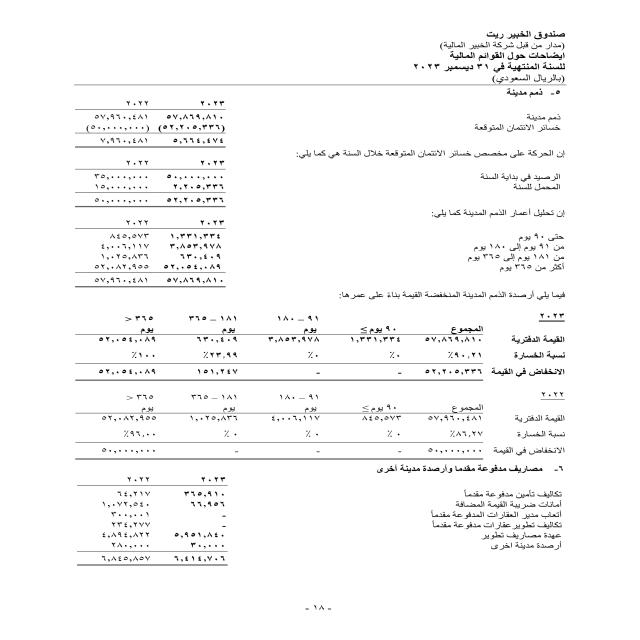notes: (442, 50, 572, 60)
table: (45, 307, 588, 464), (45, 88, 247, 295), (75, 474, 243, 578)
